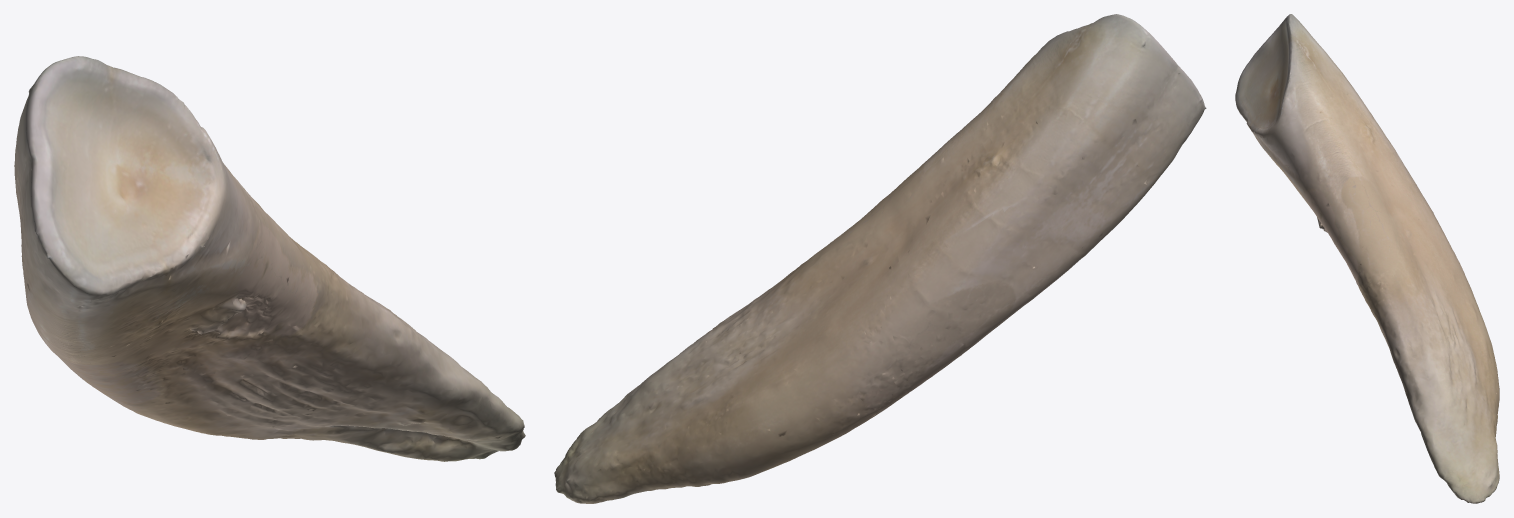
The picture shows the model from 3 angles, left to right: view 1: azimuth 30°, elevation 25°; view 2: azimuth 150°, elevation 25°; view 3: azimuth 270°, elevation 25°; orthographic projection. The views are drawn at different scales.
Parts seen in each view (by area): view 1: I1_li_unten_Pferd.001; view 2: I1_li_unten_Pferd.001; view 3: I1_li_unten_Pferd.001.
Boxes of the visible parts, x1,y1,x2,y2 form: I1_li_unten_Pferd.001: (14,56,525,461); I1_li_unten_Pferd.001: (554,14,1206,503); I1_li_unten_Pferd.001: (1235,14,1499,503).
Bounding box in the file's own units: 4459 × 4177 × 2936.
1 material, 1 textured.
